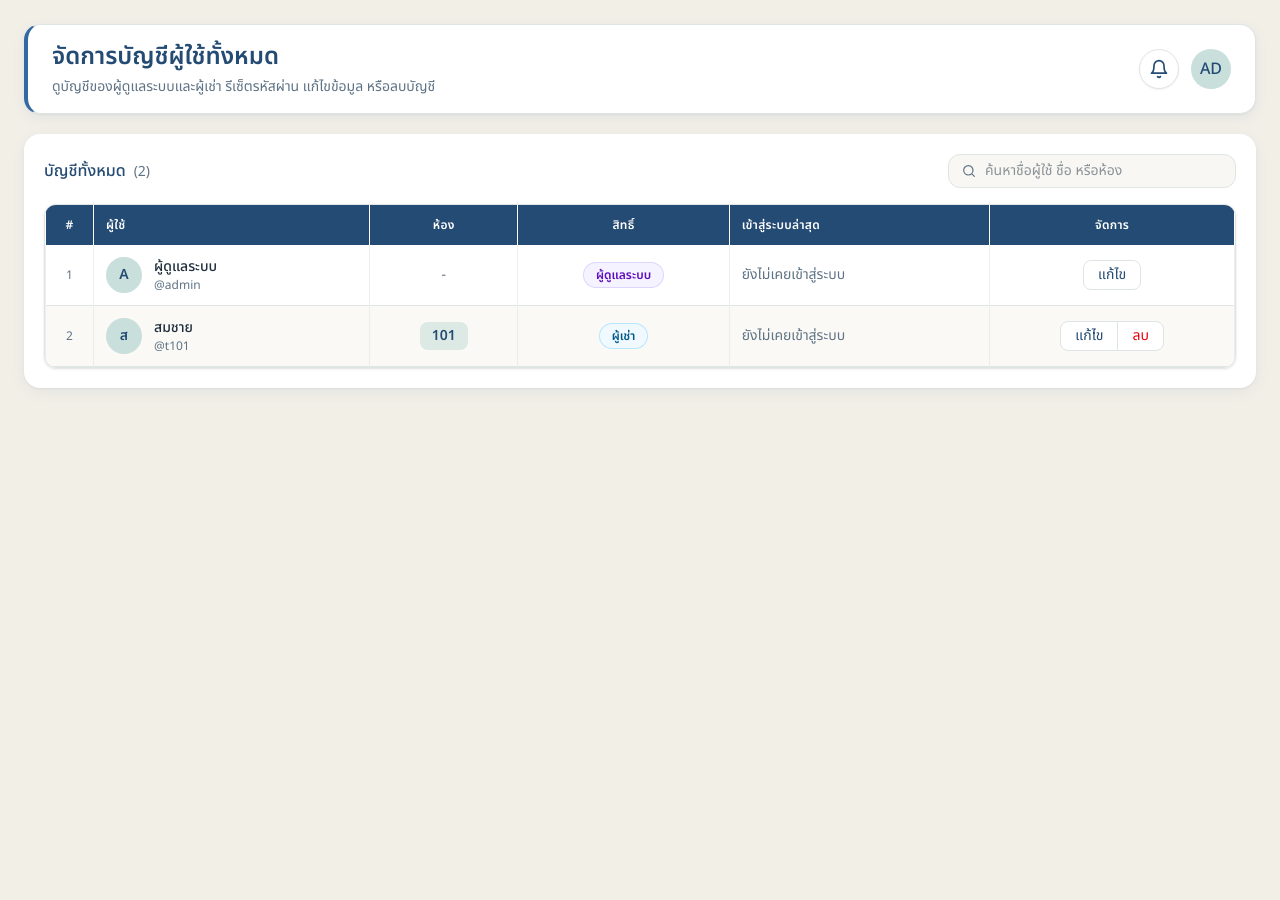
Test: หน้าจัดการบัญชี: การตั้งรหัสผ่าน › กดตั้งรหัสผ่านแล้วไม่กรอกอะไร: บันทึกไม่ได้ ไม่ส่งคำสั่ง
Click the button "แก้ไข" in the row of "สมชาย" at (1090, 336), box [1061,322,1118,350]
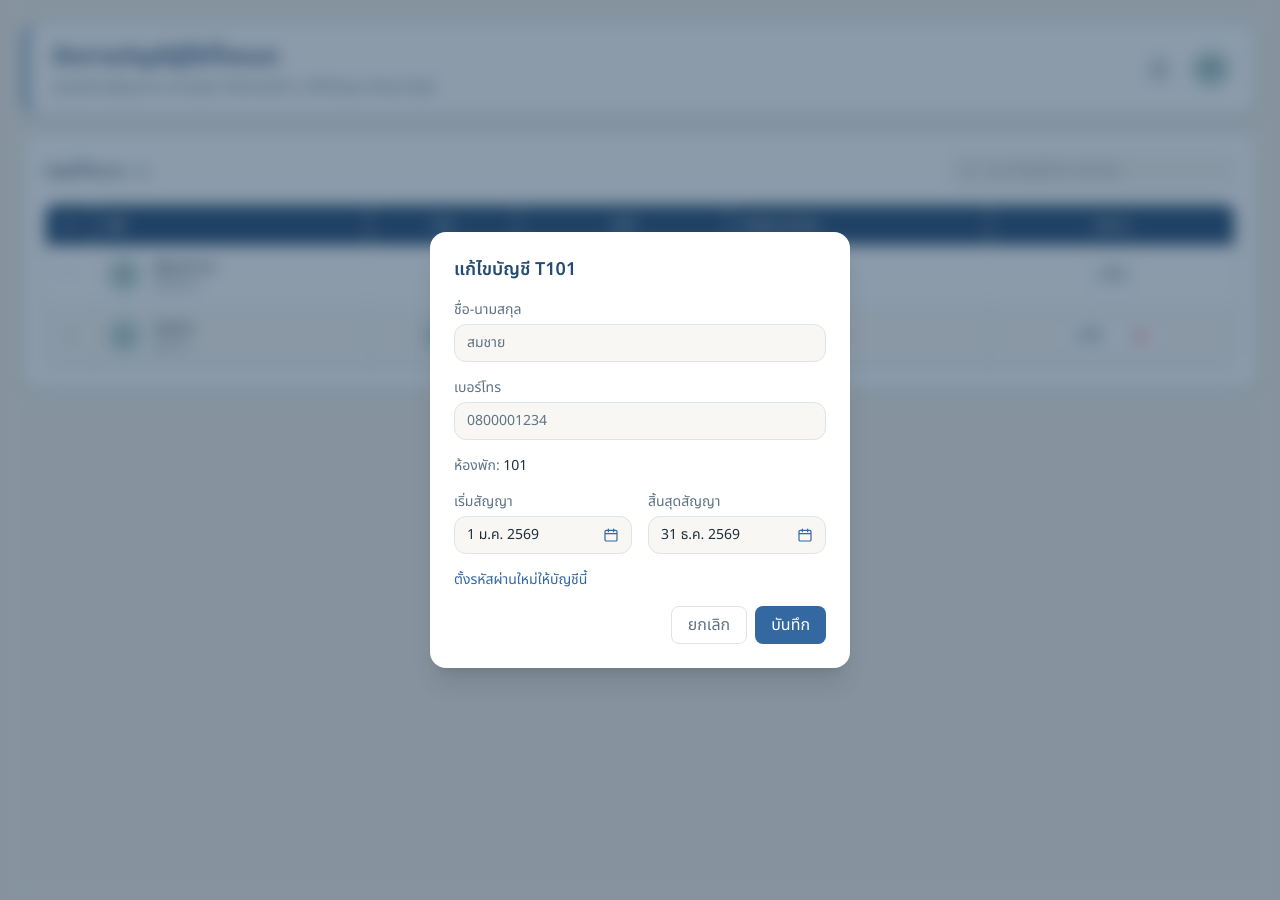
Click the button "ตั้งรหัสผ่านใหม่ให้บัญชีนี้" at (521, 580), box [454,570,587,590]
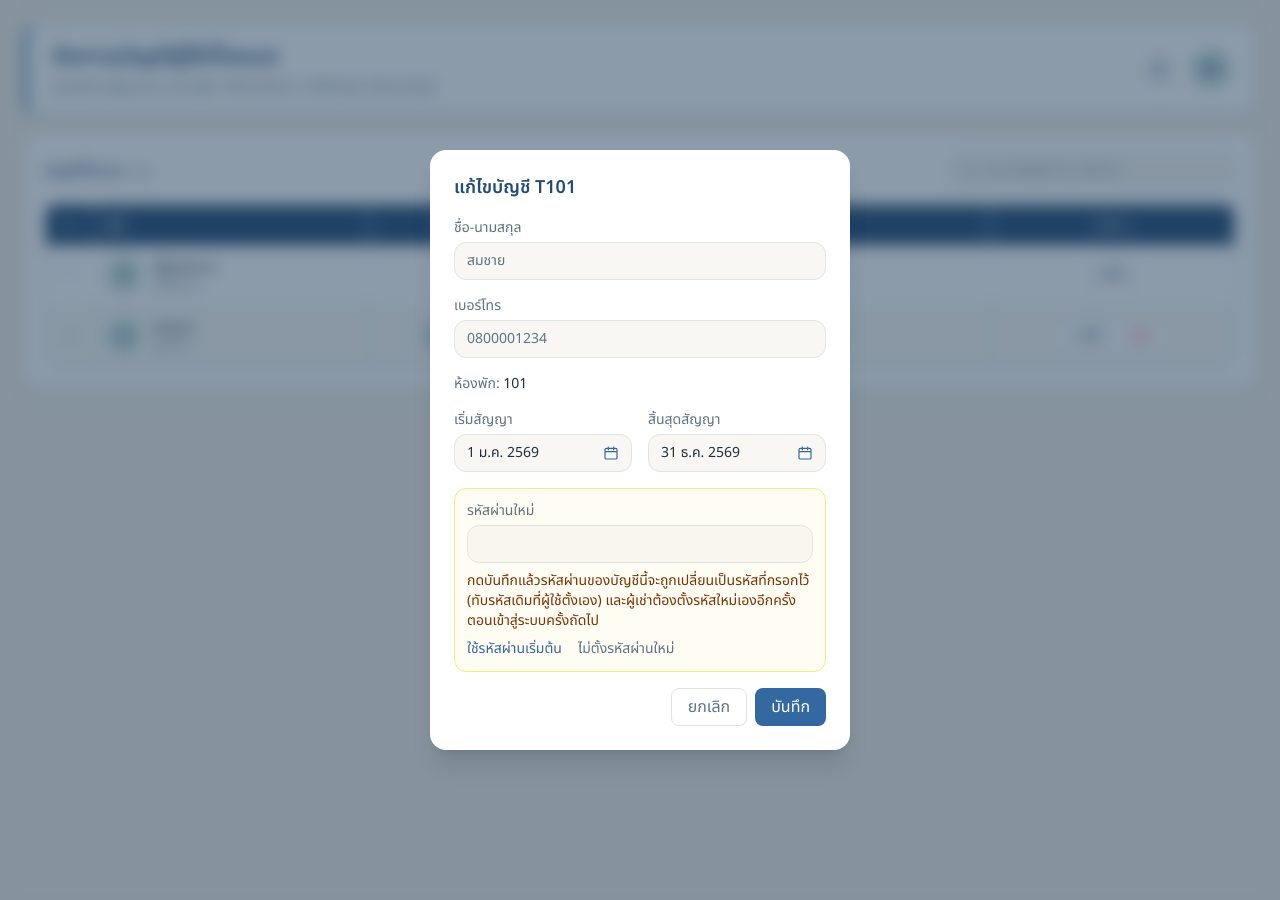
Submit the form, box [430,150,850,750]
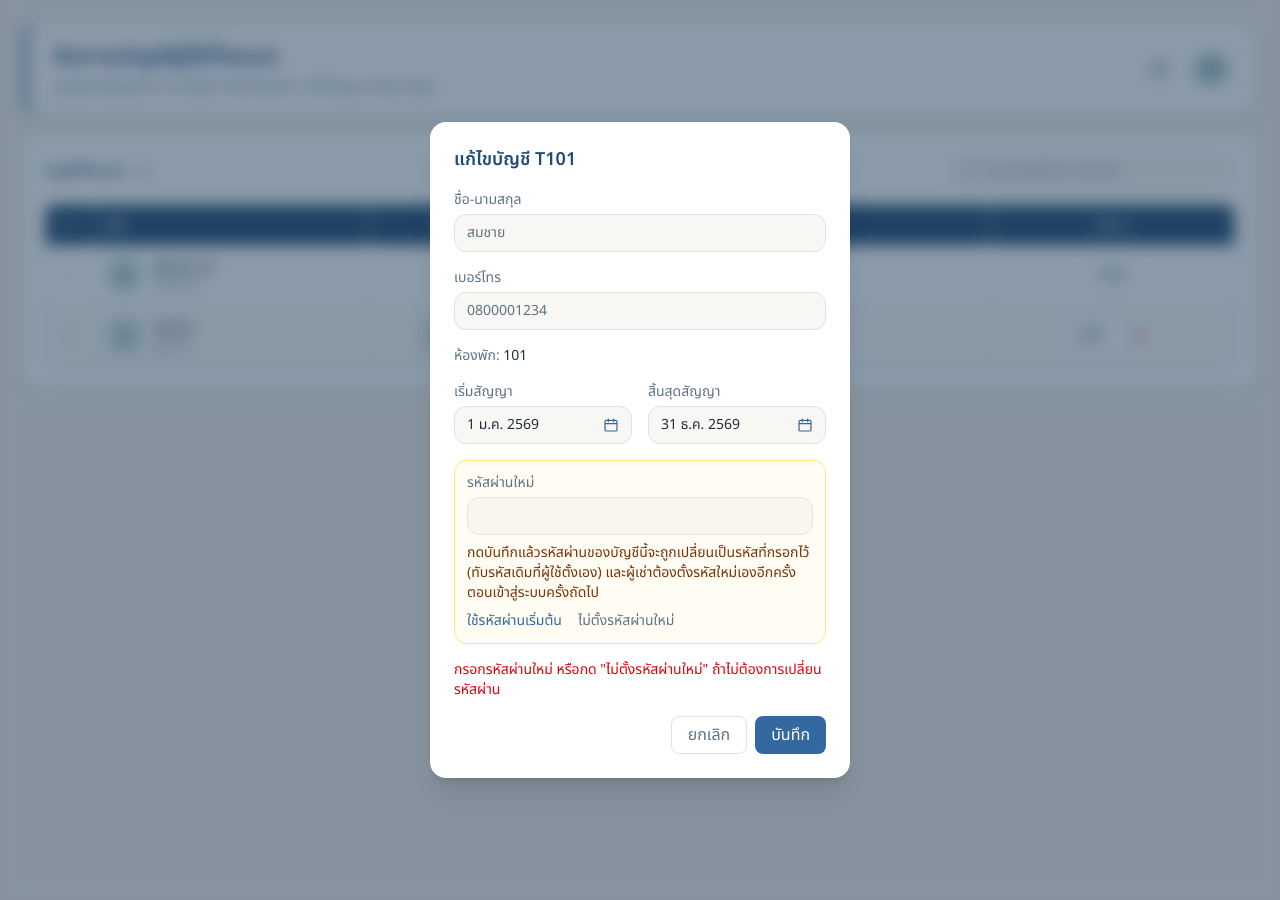
Result: the text "กรอกรหัสผ่านใหม่" is shown at [454,659,822,700]
